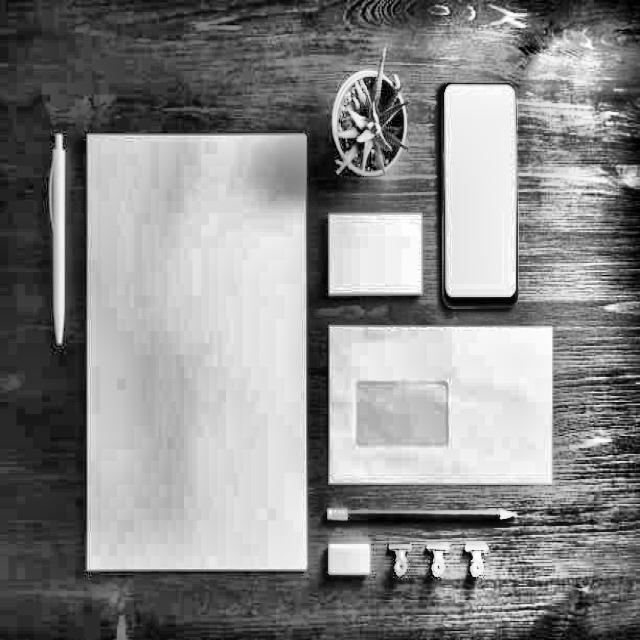Notebook: (85, 131, 309, 573)
Pen: (48, 133, 65, 344)
eraser: (327, 544, 372, 578)
